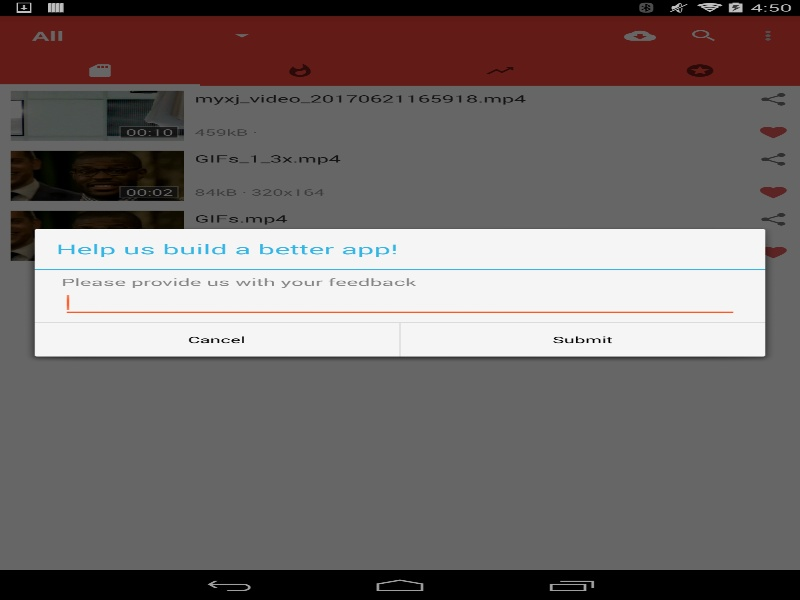Button: (34, 322, 399, 356), (400, 322, 765, 356)
Input: (61, 288, 738, 317)
